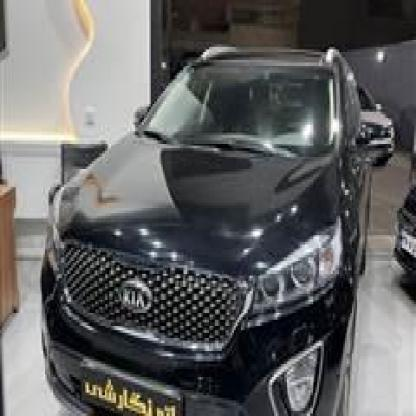Car: (40, 39, 371, 413), (316, 52, 395, 182)
